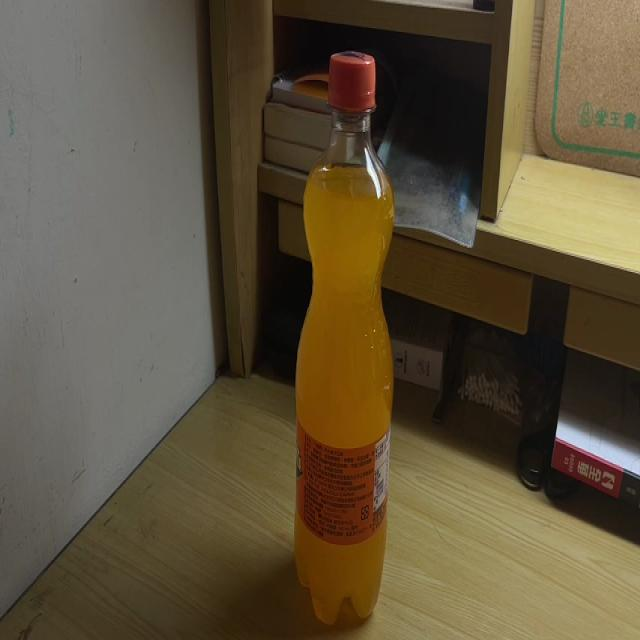Fanta: (294, 48, 393, 628)
